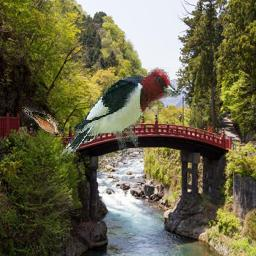Cuckoo: (22, 108, 64, 137)
Woodpecker: (61, 61, 182, 161)
